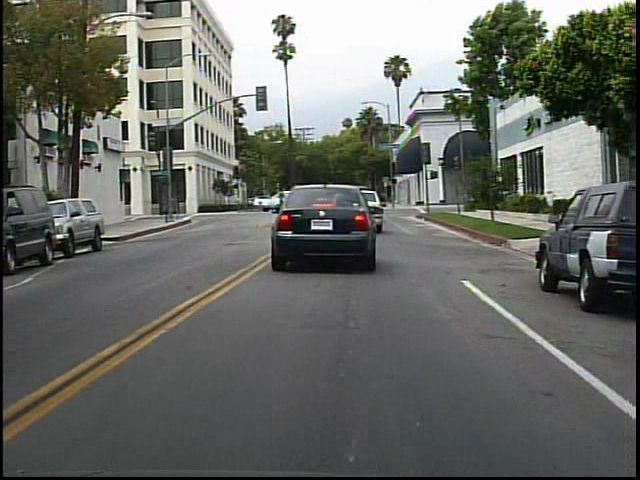person: (274, 186, 300, 222)
